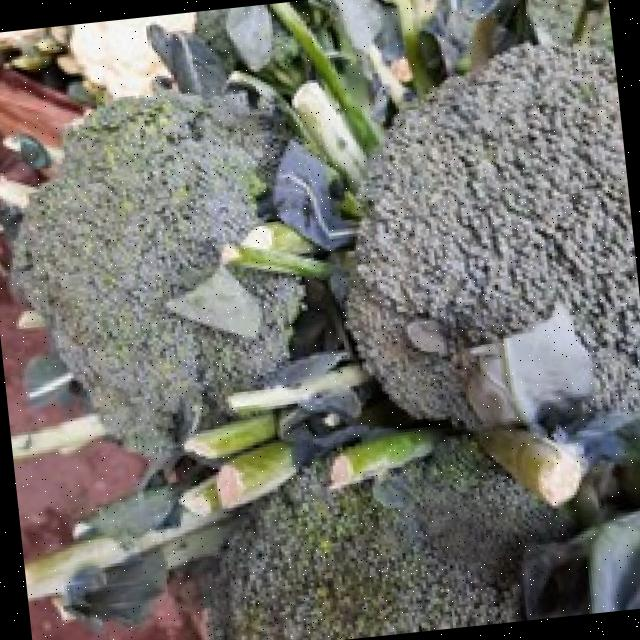Broccoli: (347, 49, 640, 427), (347, 49, 640, 426), (13, 94, 302, 454), (14, 94, 302, 454), (211, 434, 574, 640), (211, 434, 572, 640)
